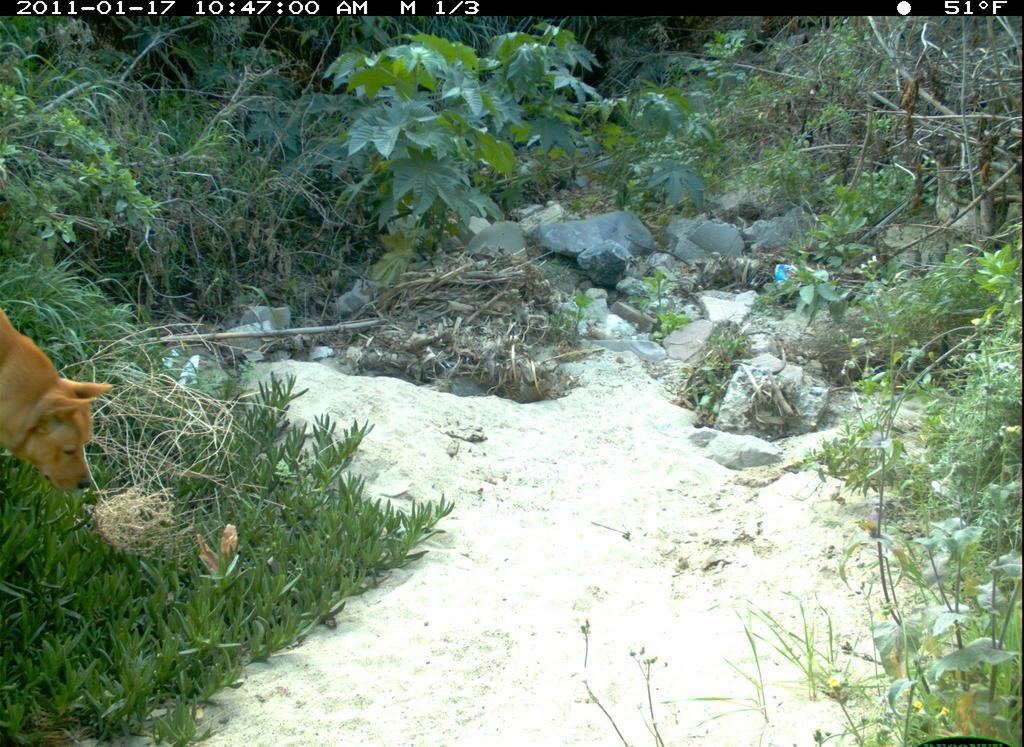dog: (2, 295, 114, 527)
